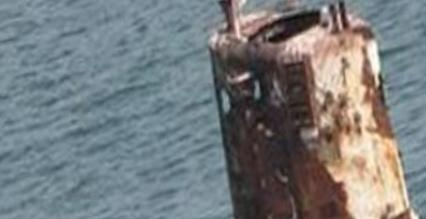rust: (216, 52, 337, 215), (357, 67, 399, 138)
